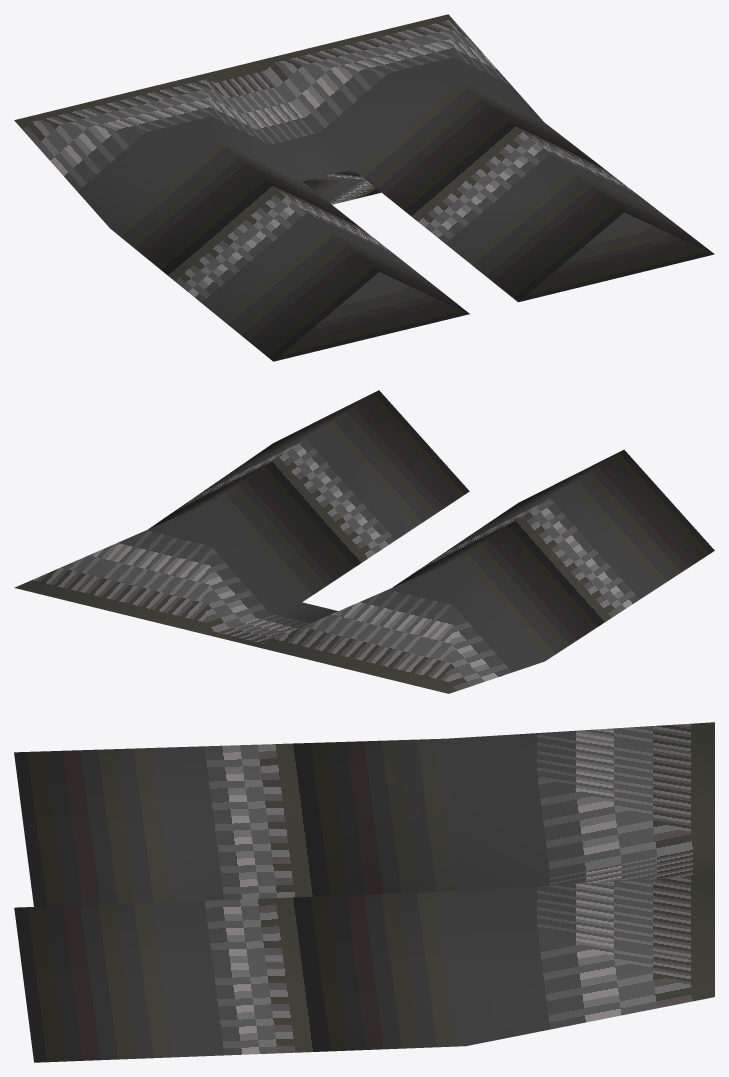
The model's file is 5839pants000_r.gltf.
3 views of the same model, one above another, from view 1: azimuth 30°, elevation 25°; view 2: azimuth 150°, elevation 25°; view 3: azimuth 270°, elevation 25° (orthographic). The views are drawn at different scales.
Visible parts, largest first — view 1: 5839pants000_r; view 2: 5839pants000_r; view 3: 5839pants000_r.
Part boxes in pixels (x1,y1,x2,y2): 5839pants000_r: (14, 14, 714, 361); 5839pants000_r: (14, 390, 714, 693); 5839pants000_r: (14, 722, 714, 1062).
Size of the model in its own units: 0.7793 by 0.1667 by 0.8264.
1 material, 1 textured.
